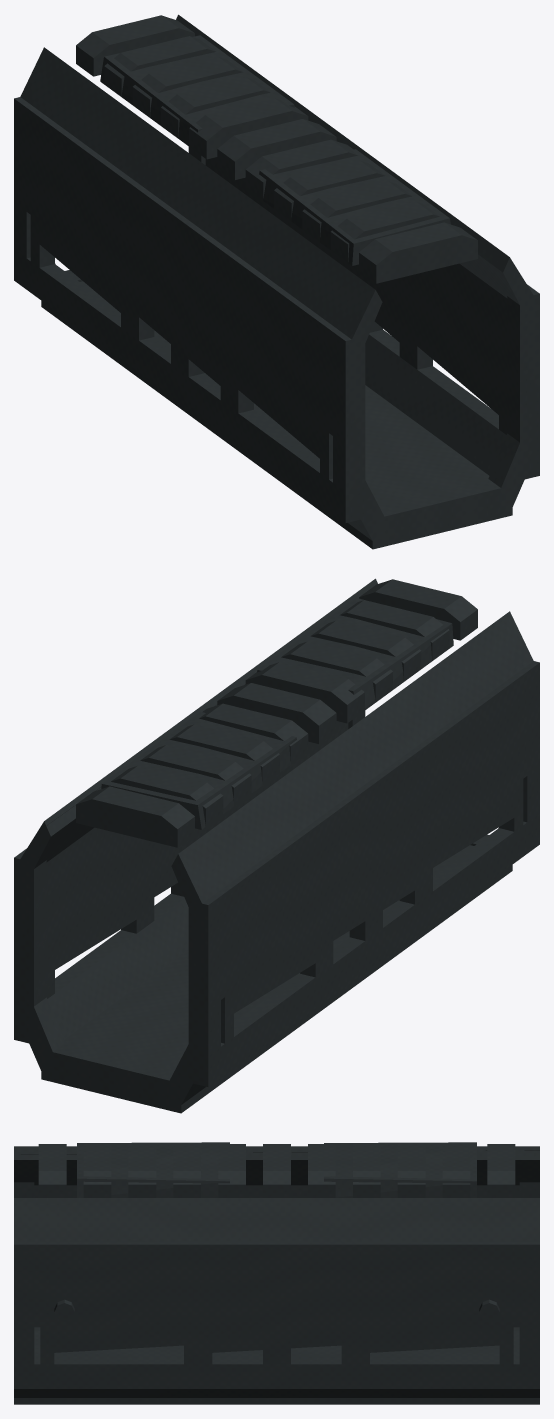
The model's file is bren_guard.glb.
3 renders of one model, top to bottom at view 1: azimuth 30°, elevation 25°; view 2: azimuth 150°, elevation 25°; view 3: azimuth 270°, elevation 25°, orthographic. The views are drawn at different scales.
Visible parts, largest first — view 1: handguard__bren_guard_LOD0_RAID_Secondary_Original_steel, handguard__bren_guard_LOD1_RAID_Secondary_Original_steel; view 2: handguard__bren_guard_LOD0_RAID_Secondary_Original_steel, handguard__bren_guard_LOD1_RAID_Secondary_Original_steel; view 3: handguard__bren_guard_LOD0_RAID_Secondary_Original_steel, handguard__bren_guard_LOD1_RAID_Secondary_Original_steel.
Part boxes in pixels (x1=…): handguard__bren_guard_LOD0_RAID_Secondary_Original_steel: x1=14, y1=14, x2=539, y2=549; handguard__bren_guard_LOD1_RAID_Secondary_Original_steel: x1=14, y1=19, x2=539, y2=548; handguard__bren_guard_LOD0_RAID_Secondary_Original_steel: x1=14, y1=578, x2=539, y2=1113; handguard__bren_guard_LOD1_RAID_Secondary_Original_steel: x1=14, y1=598, x2=535, y2=1112; handguard__bren_guard_LOD0_RAID_Secondary_Original_steel: x1=14, y1=1144, x2=539, y2=1404; handguard__bren_guard_LOD1_RAID_Secondary_Original_steel: x1=16, y1=1142, x2=539, y2=1397.
Size of the model in its own units: 0.092 by 0.12 by 0.26.
Materials: 1 (1 with a texture image).
